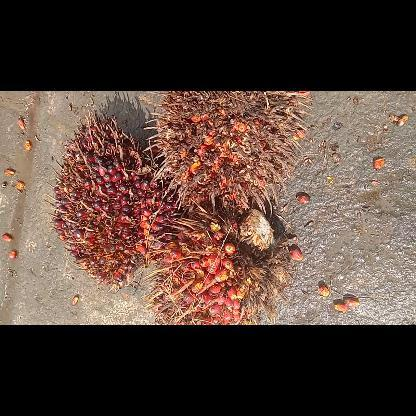TBS masak: (46, 110, 180, 288), (140, 198, 292, 324)
Terlalu masak: (142, 91, 310, 213)
